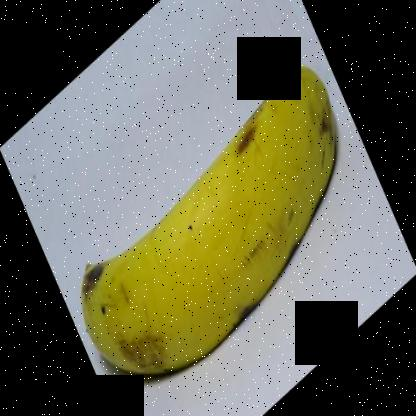freshripe: (66, 55, 345, 404)
